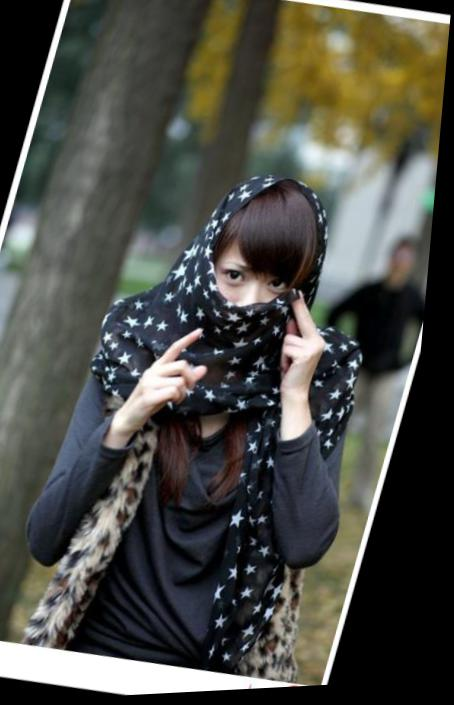WRONG: (193, 240, 326, 370)
